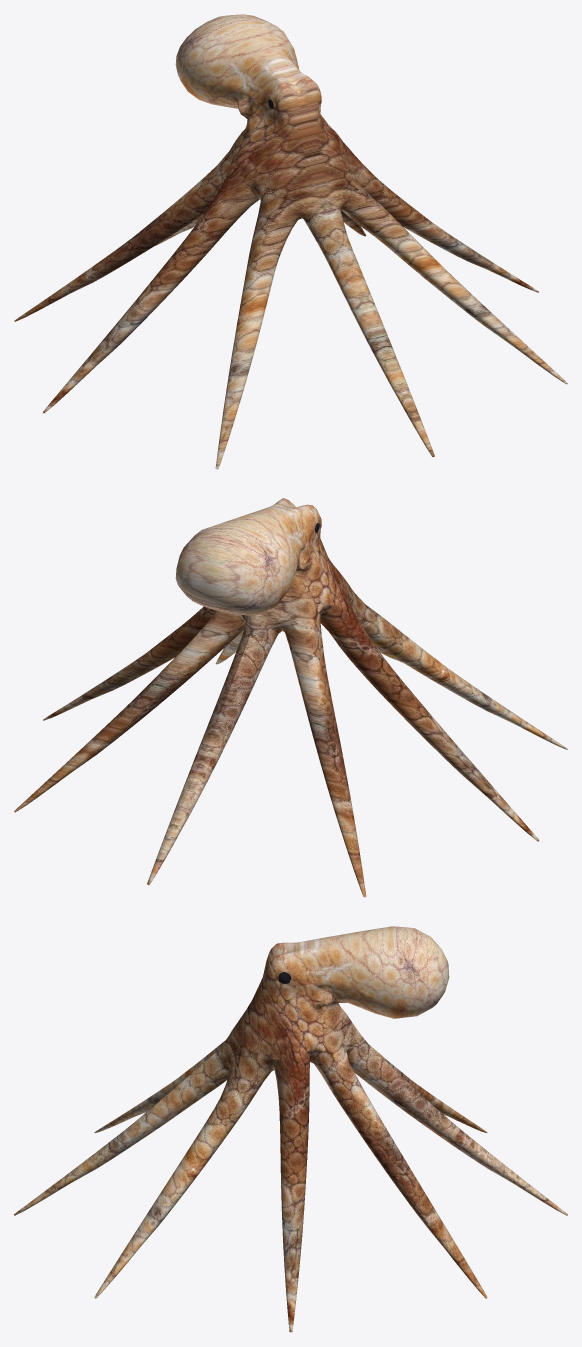
Rendered from octopus.obj.
3 views of the same model, one above another, from view 1: azimuth 30°, elevation 25°; view 2: azimuth 150°, elevation 25°; view 3: azimuth 270°, elevation 25° (orthographic). The views are drawn at different scales.
Visible parts, largest first — view 1: octopus; view 2: octopus; view 3: octopus.
Part boxes in pixels (x1,y1,x2,y2): octopus: (14,14,567,469); octopus: (14,498,567,897); octopus: (14,926,567,1332).
Bounding box in the file's own units: 13.7 × 7.7 × 13.67.
Materials: 2 (2 with a texture image).
